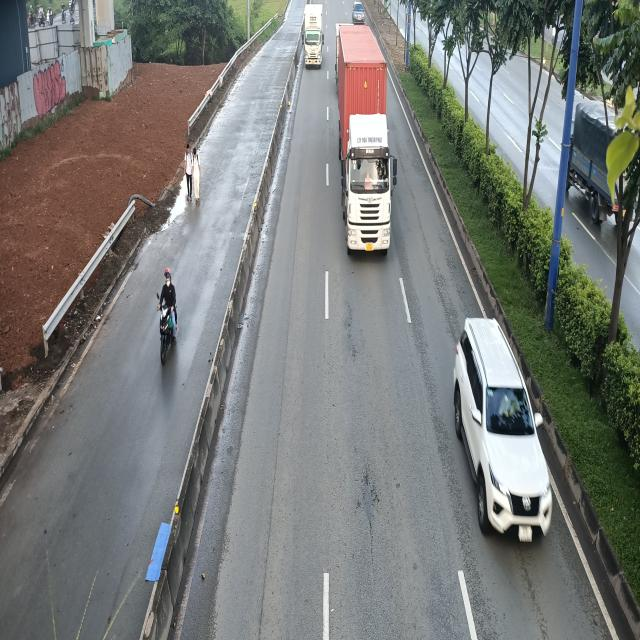car: (454, 318, 556, 545), (352, 1, 366, 24)
container: (339, 28, 398, 256)
truck: (303, 3, 325, 70)
